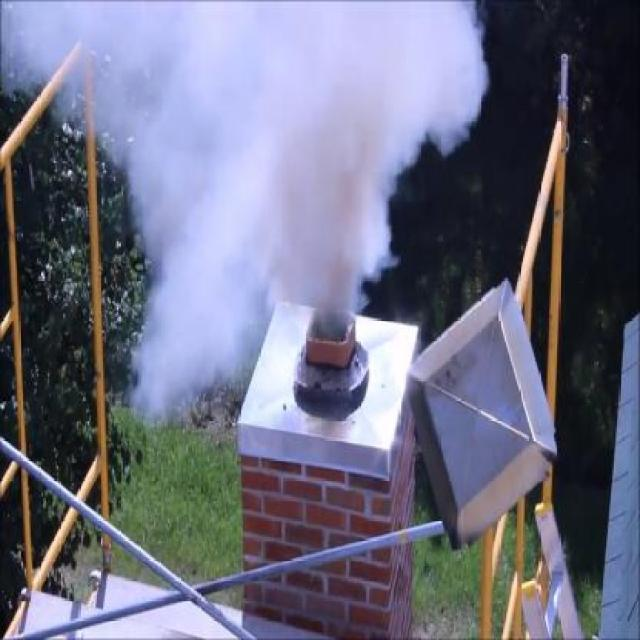smoke: (114, 30, 497, 164), (116, 192, 424, 291)
